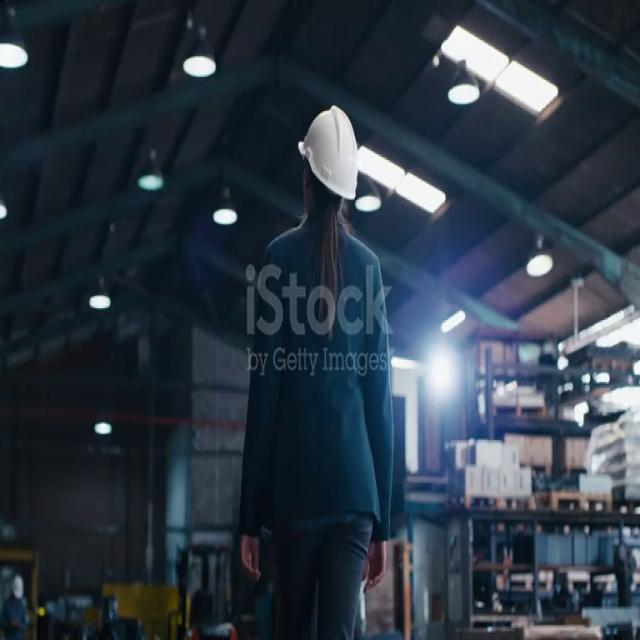capacete: (292, 86, 379, 218)
